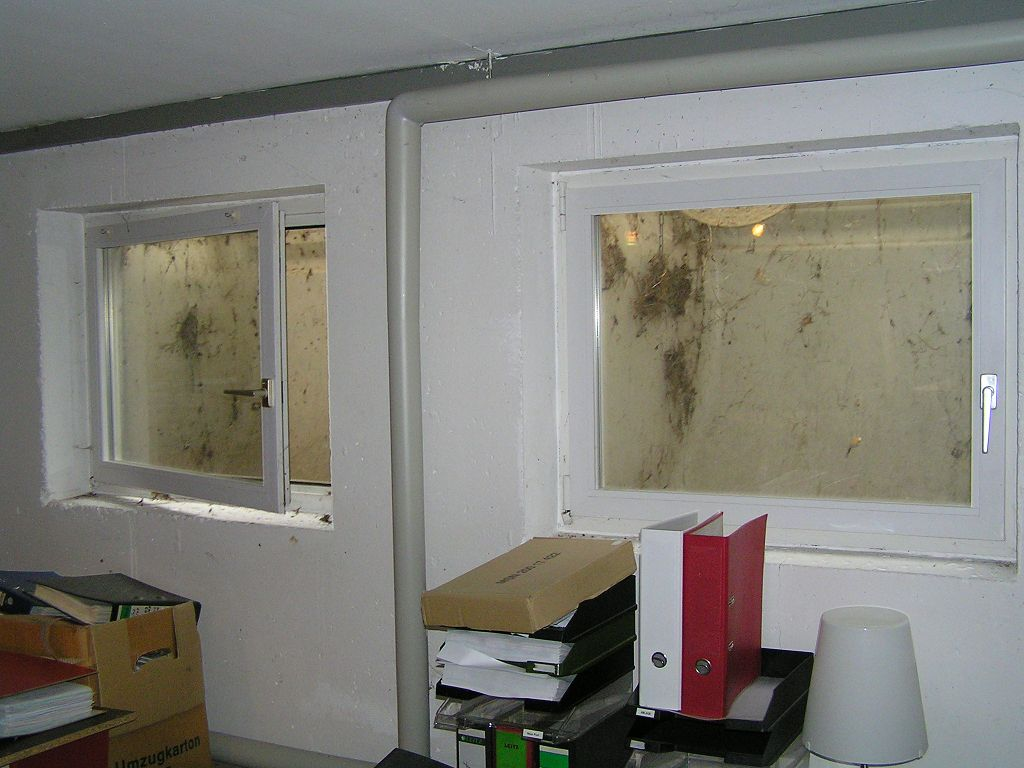windows: (556, 168, 1014, 542)
